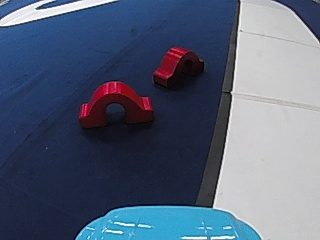bridge: (75, 76, 156, 127), (151, 43, 204, 89)
